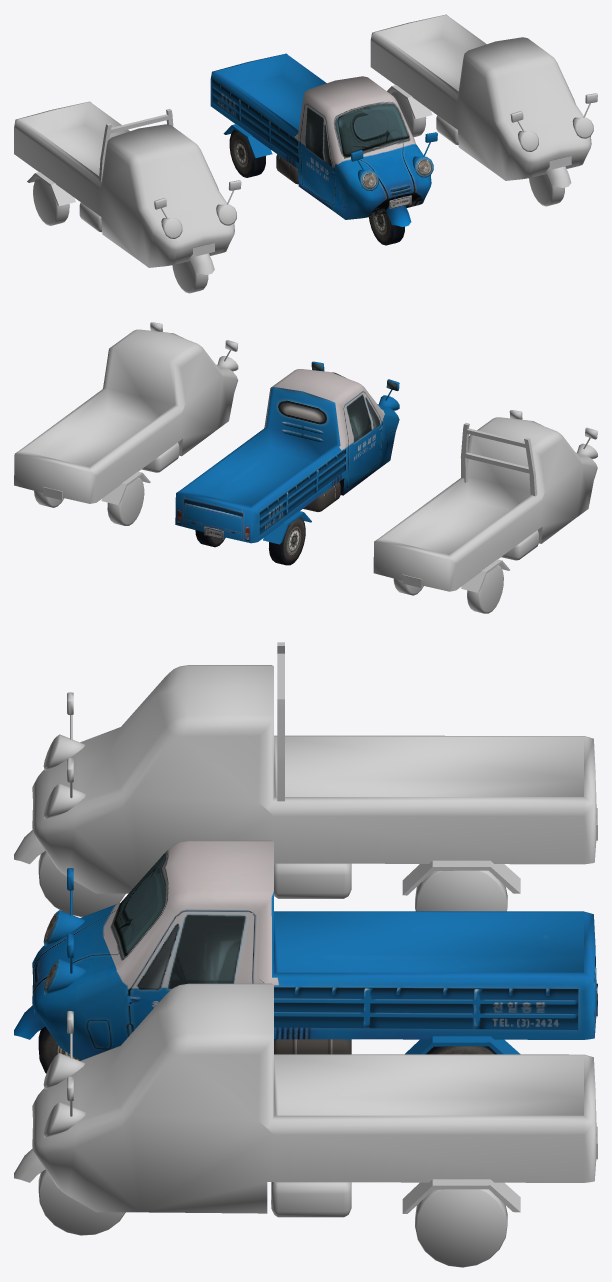
File: 3car.fbx
The picture shows the model from 3 angles, top to bottom: view 1: azimuth 30°, elevation 25°; view 2: azimuth 150°, elevation 25°; view 3: azimuth 270°, elevation 25°; orthographic projection. The views are drawn at different scales.
Visible parts, largest first — view 1: polySurface19, polySurface40, polySurface39; view 2: polySurface19, polySurface40, polySurface39; view 3: polySurface39, polySurface19, polySurface40.
Boxes of the visible parts, x1,y1,x2,y2 form: polySurface19: (14,101,241,293); polySurface40: (210,53,437,245); polySurface39: (370,14,597,206); polySurface19: (373,410,597,613); polySurface40: (175,361,399,565); polySurface39: (14,322,238,525); polySurface39: (14,983,597,1267); polySurface19: (14,642,597,916); polySurface40: (14,840,597,1073).
Size of the model in its own units: 29.59 by 8.4 by 18.23.
